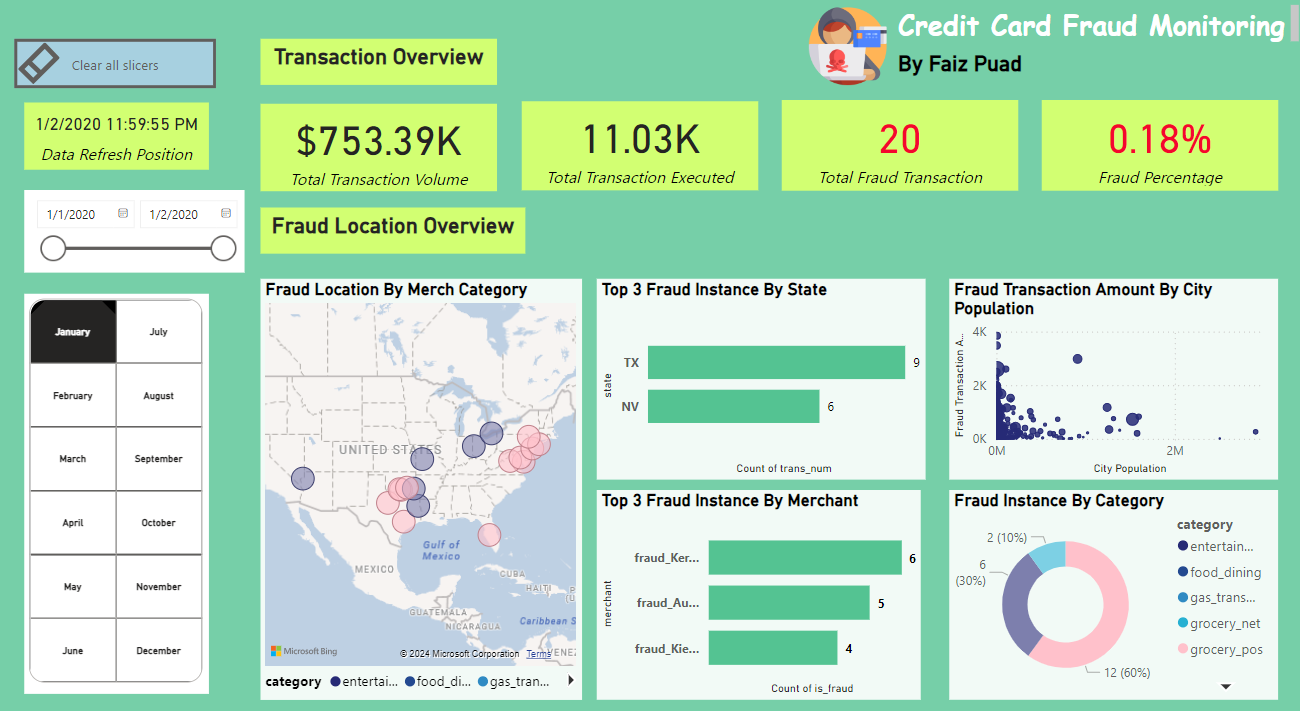

The page's visual inventory and layout, read from the dashboard file:
{"tool":"powerbi","page":{"name":"Overview","canvas":[1280,720],"ordinal":0},"visuals":[{"type":"card","fields":{"Values":["CountNonNull(fct_transaction.trans_num)"]},"box":[507.7,105.2,233.7,88.2],"z":0},{"type":"card","fields":{"Values":["Sum(fct_transaction.amt)"]},"box":[249.2,106.8,233.7,86.7],"z":1000},{"type":"card","fields":{"Values":["Max(fct_transaction.trans_date_trans_time)"]},"box":[15.9,106.4,182.2,66],"z":2000},{"type":"image","box":[763,7.7,133.1,86.7],"z":3000},{"type":"textbox","box":[874.5,4.6,405.5,46.4],"z":4000},{"type":"textbox","box":[874.5,51.1,154.8,37.1],"z":5000},{"type":"slicer","fields":{"Values":["fct_transaction.trans_date_trans_time"]},"box":[15.9,192,217.7,81.9],"z":7000},{"type":"textbox","box":[249.5,42.8,233.6,45.2],"z":8000},{"type":"card","fields":{"Values":["fct_transaction.Fraud Percentage"]},"box":[1021.5,103.7,233.7,89.8],"z":9000},{"type":"card","fields":{"Values":["CountNonNull(fct_transaction.trans_num)"]},"box":[764.6,103.7,233.7,89.8],"z":10000},{"type":"textbox","box":[249.5,210.3,261.7,45.2],"z":11000},{"type":"map","title":"Fraud Location By Merch  Category","fields":{"Size":["Sum(fct_transaction.is_fraud)"],"Y":["dim_merchant.merch_location_lat"],"X":["dim_merchant.merch_location_long"],"Series":["dim_merchant.category"]},"box":[249.2,280.1,317.3,416.3],"z":12000},{"type":"barChart","title":"Top 3 Fraud Instance By State","fields":{"Category":["dim_location.state"],"Y":["CountNonNull(fct_transaction.trans_num)"]},"box":[582,280.1,325,198.1],"z":13000},{"type":"barChart","title":"Top 3 Fraud Instance By Merchant","fields":{"Category":["dim_merchant.merchant"],"Y":["CountNonNull(fct_transaction.is_fraud)"],"Series":["fct_transaction.amt"]},"box":[582,489.1,320.4,207.4],"z":14000},{"type":"scatterChart","title":"Fraud Transaction Amount By City Population","fields":{"X":["dim_location.city_pop"],"Y":["Sum(fct_transaction.transaction_count)"],"Size":["Sum(fct_transaction.amt)"]},"box":[930.2,280.1,325,198.1],"z":15000},{"type":"donutChart","title":"Fraud Instance By Category","fields":{"Y":["Sum(fct_transaction.is_fraud)"],"Series":["dim_merchant.category"]},"box":[930.2,489.1,325,207.4],"z":16000},{"type":"actionButton","box":[6.4,43.7,199.4,48.9],"z":17000},{"type":"advancedSlicerVisual","fields":{"Values":["fct_transaction.trans_date_trans_time.Variation.Date Hierarchy.Month"]},"box":[15.9,294.7,182.2,395],"z":17001}]}

Visuals, with their boxes in screenshot pixels (x1, y1, x2, y2), scaled from the page's 1280x720 canvas onto the 1300x711 screenshot:
card - CountNonNull(fct_transaction.trans_num): 516/104/753/191
card - Sum(fct_transaction.amt): 253/105/490/191
card - Max(fct_transaction.trans_date_trans_time): 16/105/201/170
image: 775/8/910/93
textbox: 888/5/1299/50
textbox: 888/50/1045/87
slicer - fct_transaction.trans_date_trans_time: 16/190/237/270
textbox: 253/42/491/87
card - fct_transaction.Fraud Percentage: 1037/102/1275/191
card - CountNonNull(fct_transaction.trans_num): 777/102/1014/191
textbox: 253/208/519/252
"Fraud Location By Merch  Category" map: 253/277/575/688
"Top 3 Fraud Instance By State" barChart: 591/277/921/472
"Top 3 Fraud Instance By Merchant" barChart: 591/483/916/688
"Fraud Transaction Amount By City Population" scatterChart: 945/277/1275/472
"Fraud Instance By Category" donutChart: 945/483/1275/688
actionButton: 6/43/209/91
advancedSlicerVisual - fct_transaction.trans_date_trans_time.Variation.Date Hierarchy.Month: 16/291/201/681
